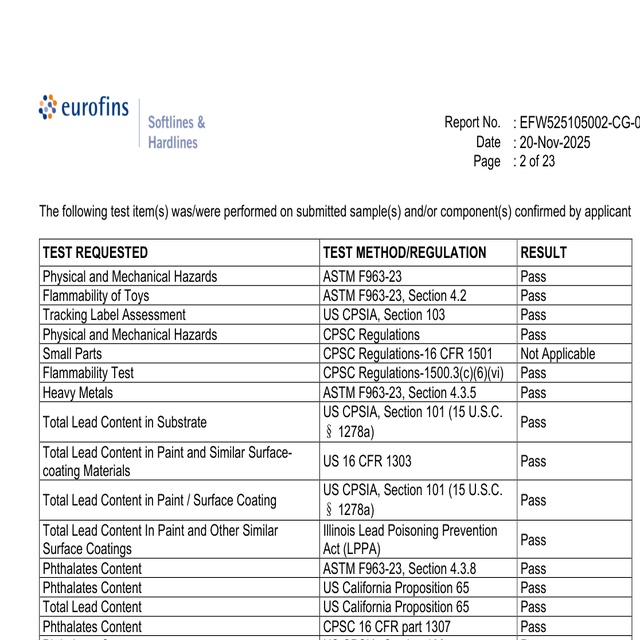eurofins: (36, 90, 132, 126)
